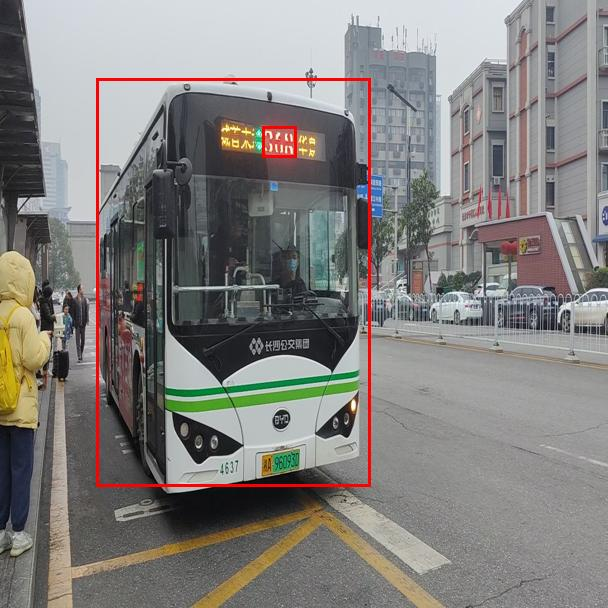bus: (96, 78, 370, 486)
screen: (262, 126, 296, 157)
